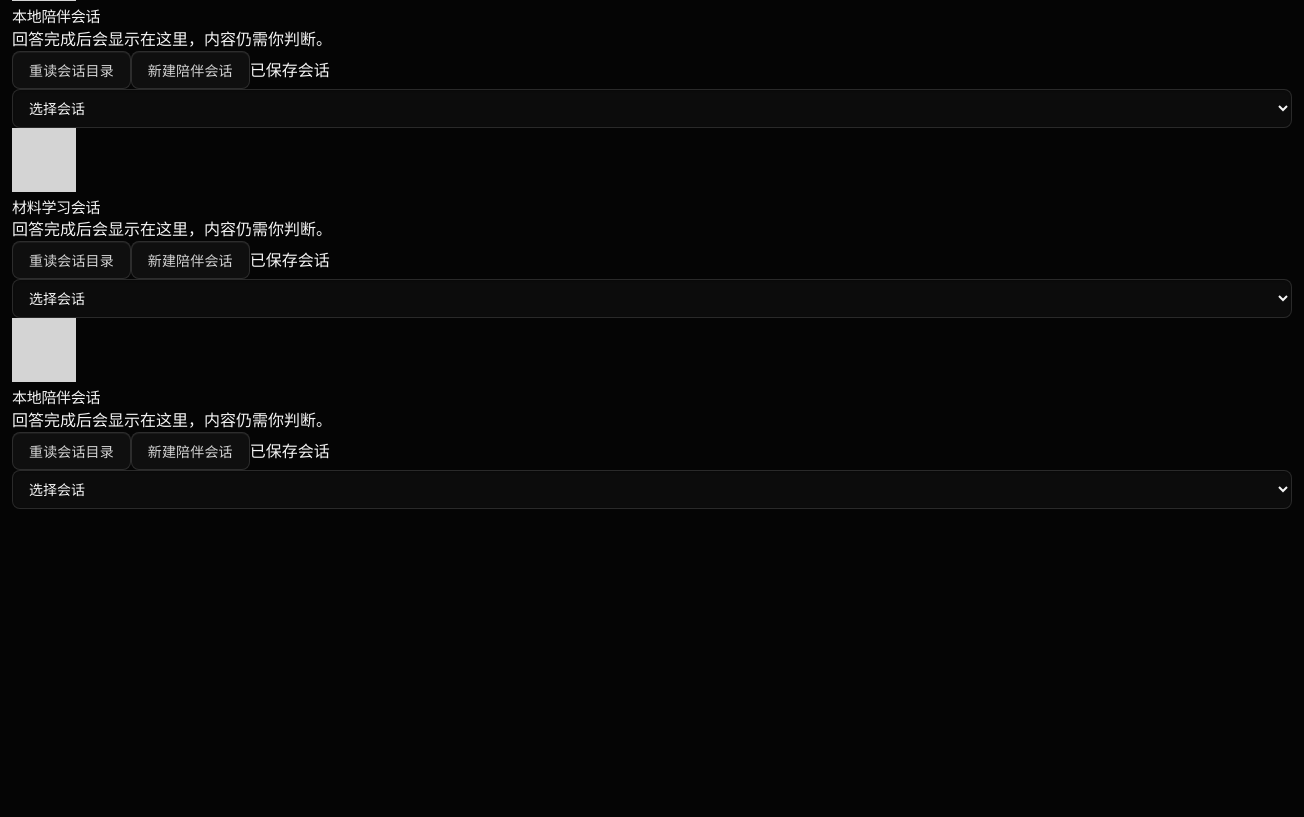
Test: keeps a completed execution visible when only its subsequent history read fails
The width and height of the screenshot is (1304, 817).
Select "SYNTHETIC session · 1" in the 1st dropdown labelled "已保存会话": (652, 108) [12,88,1292,128]
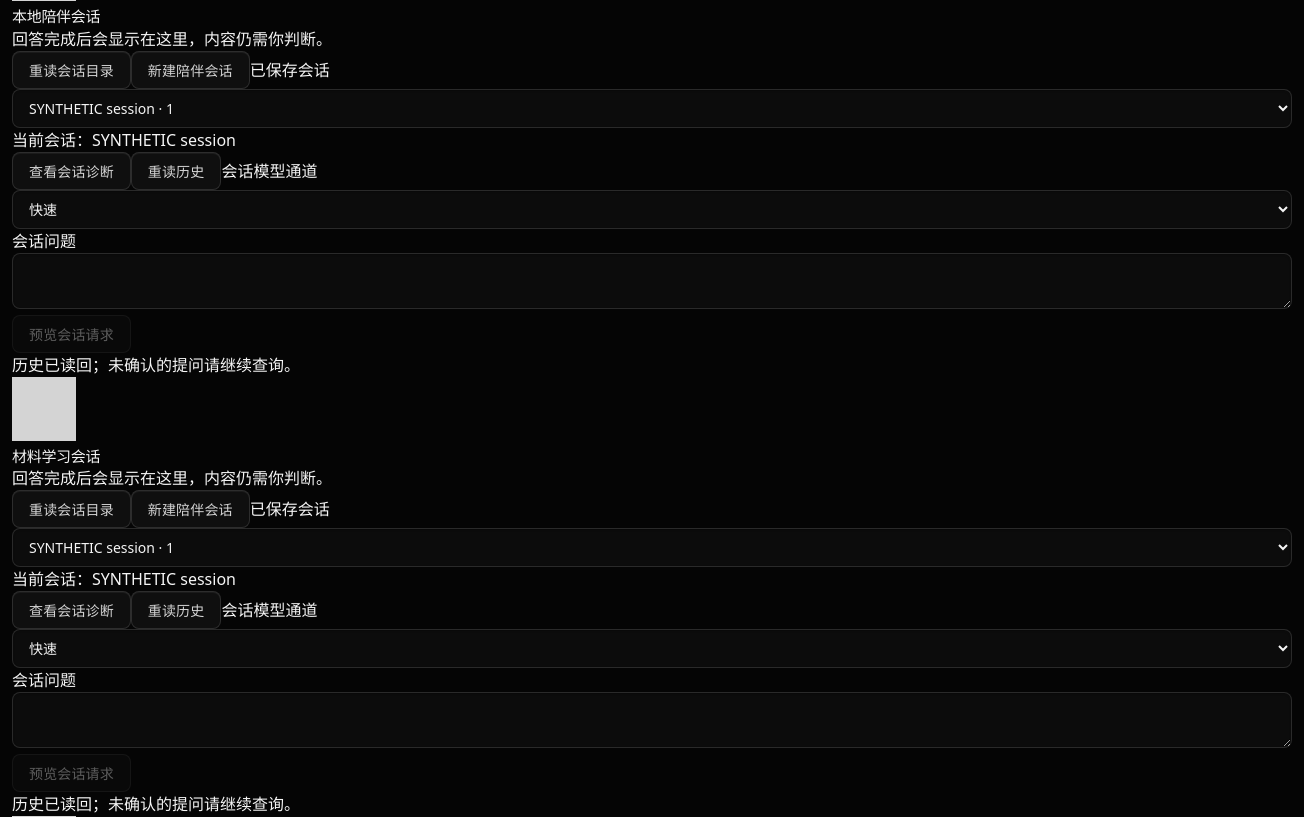
Check: the text "当前会话：SYNTHETIC session" below "材料学习会话" is shown, box [12,568,236,590]
In the 1st text box labelled "会话问题": (652, 280) [12,252,1292,308], type "跨位置草稿"
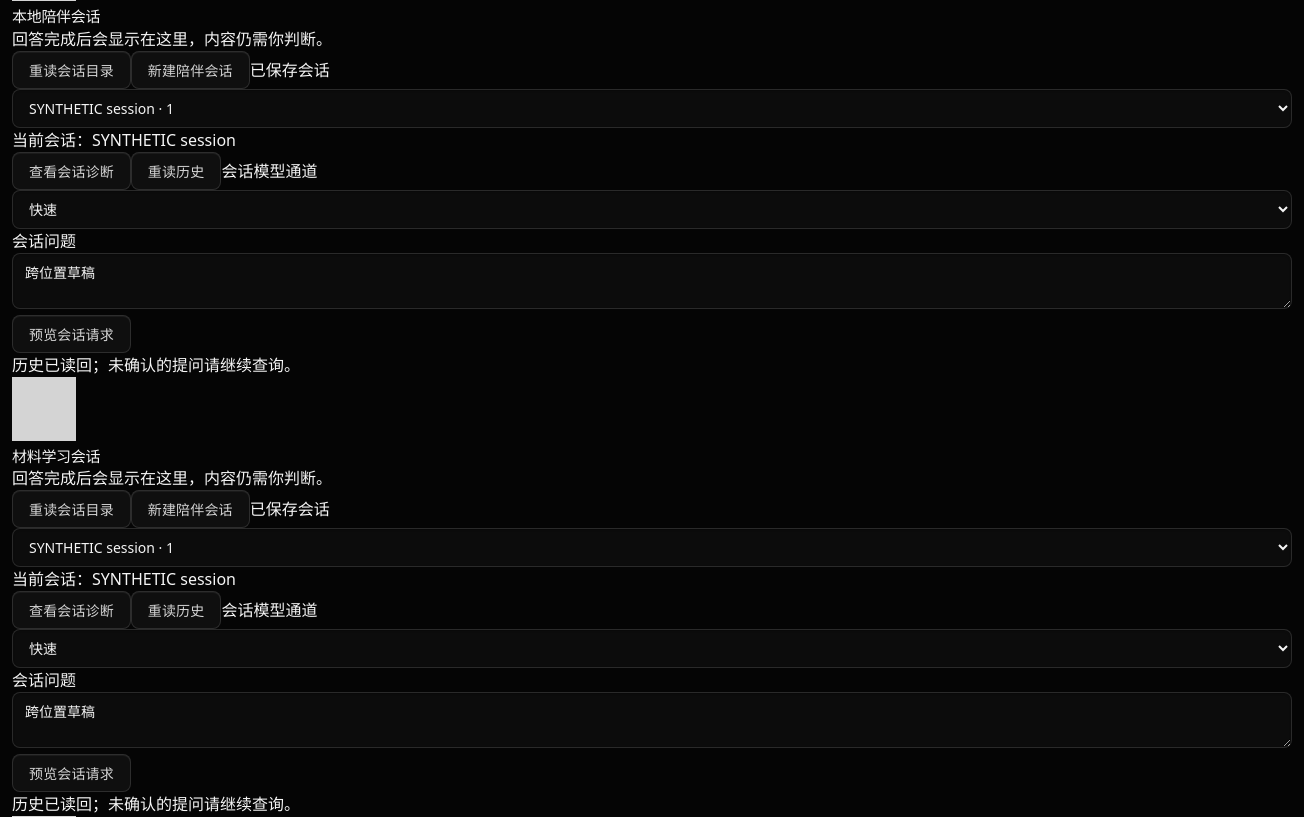
Click the button "预览会话请求" below "材料学习会话": (71, 773) [12,754,131,792]
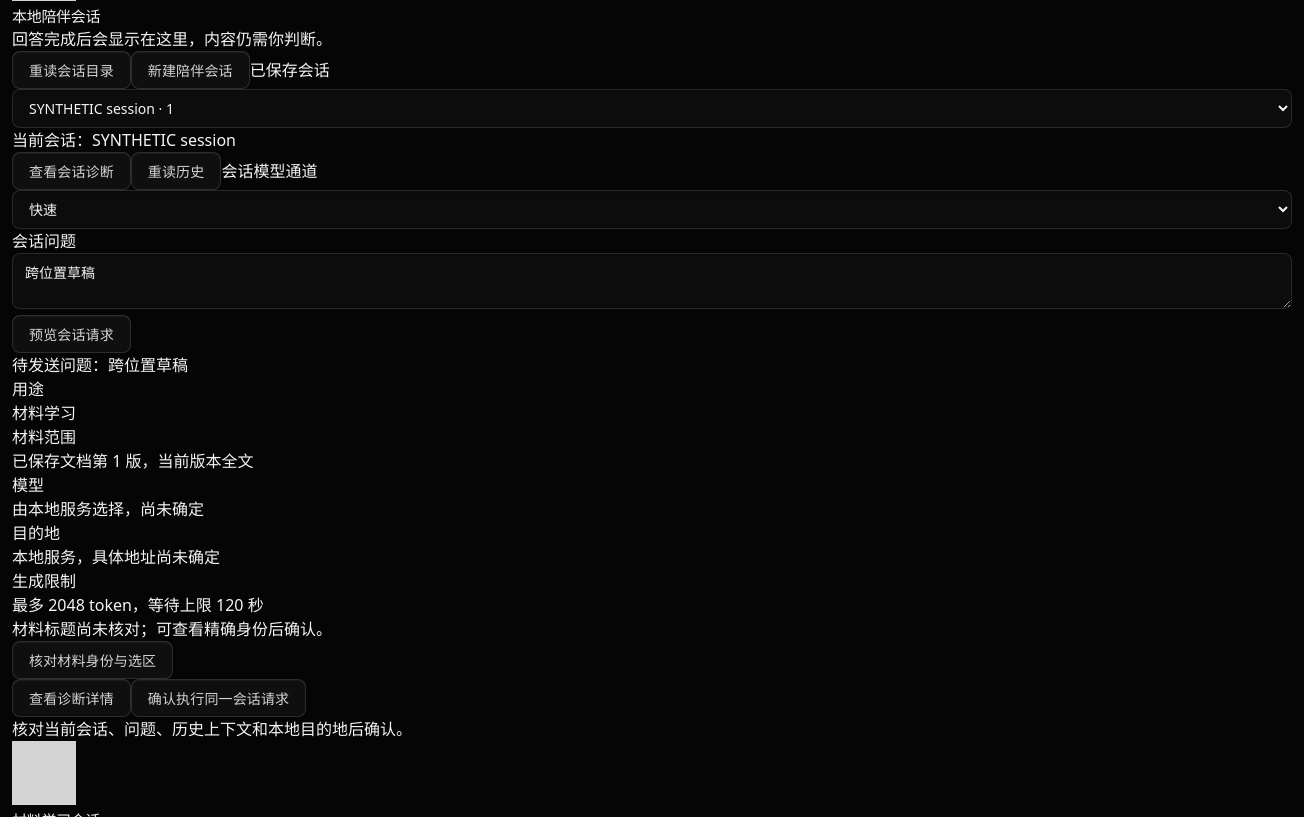
Click the button "确认执行同一会话请求": (218, 698) [131,678,306,716]
(page scrolled)
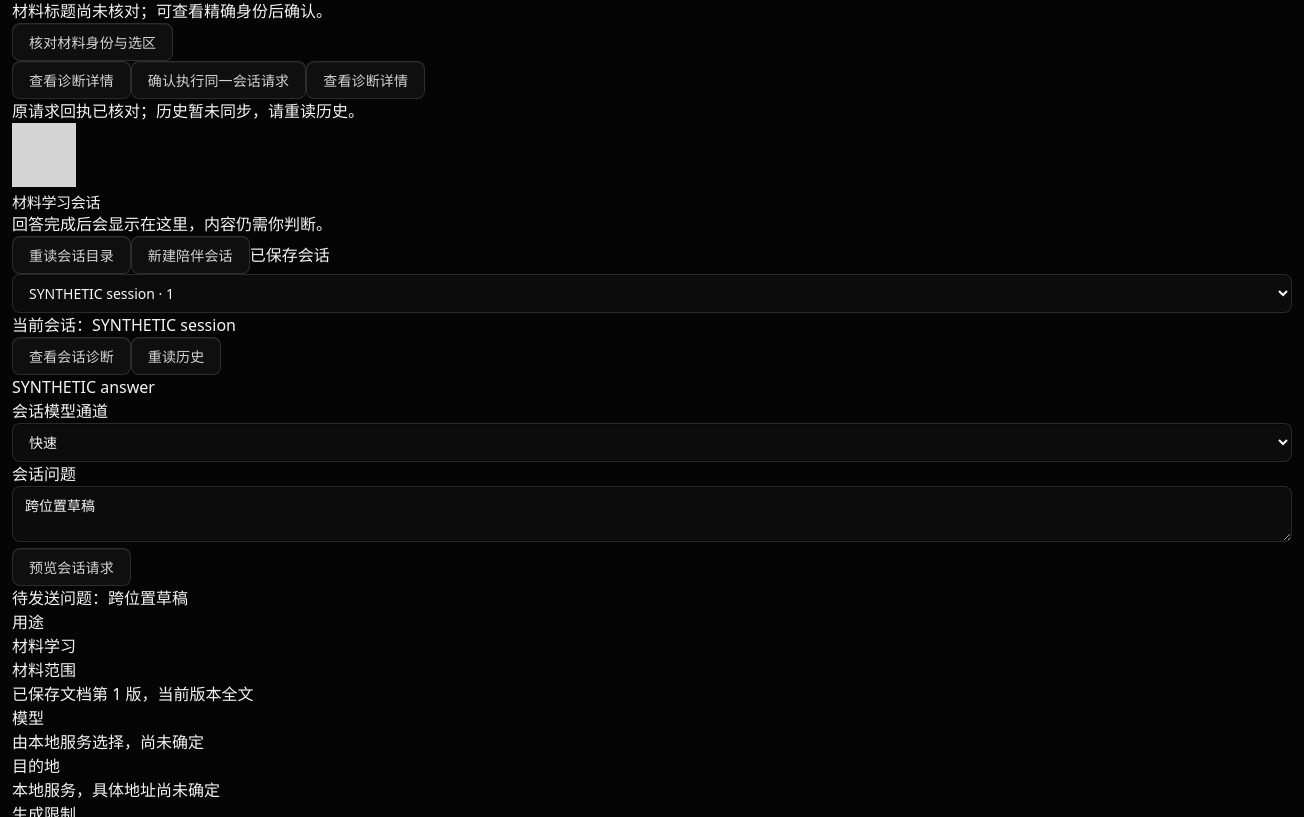
Check: the text "SYNTHETIC answer" is shown, box [12,376,155,398]
